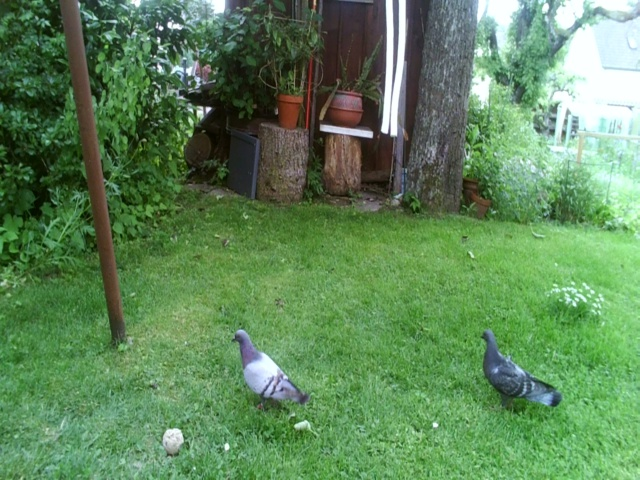Pigeon: (476, 322, 560, 426), (224, 327, 310, 421)
